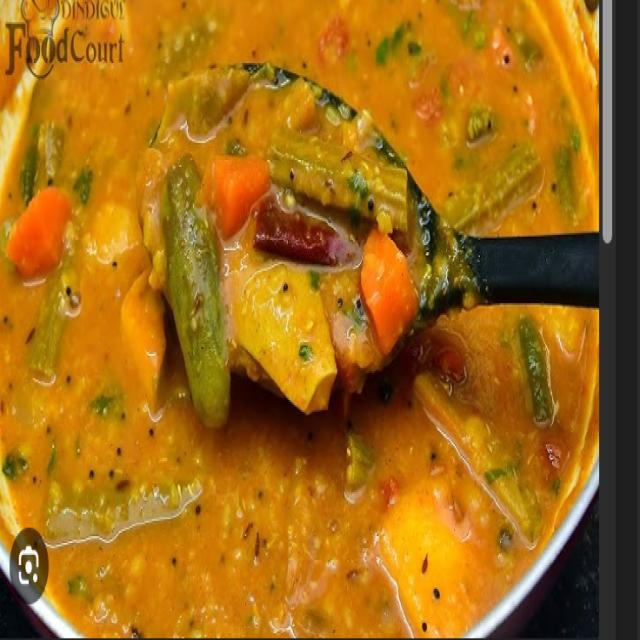sambar: (34, 48, 554, 601)
